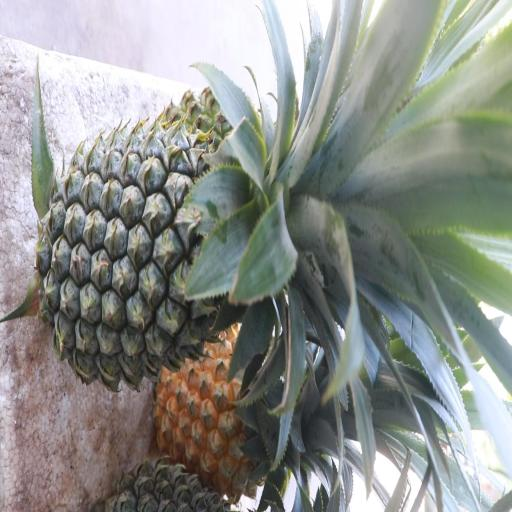Pineapple - v8 v1: (154, 344, 311, 495)
